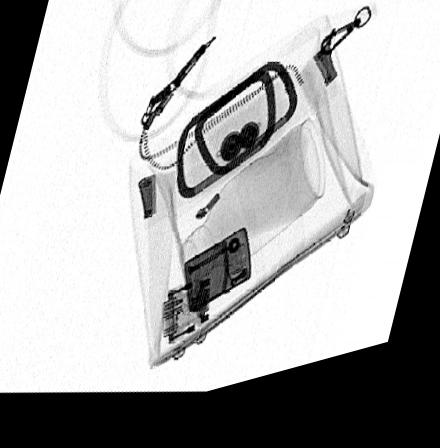Lighter: (184, 239, 252, 323)
